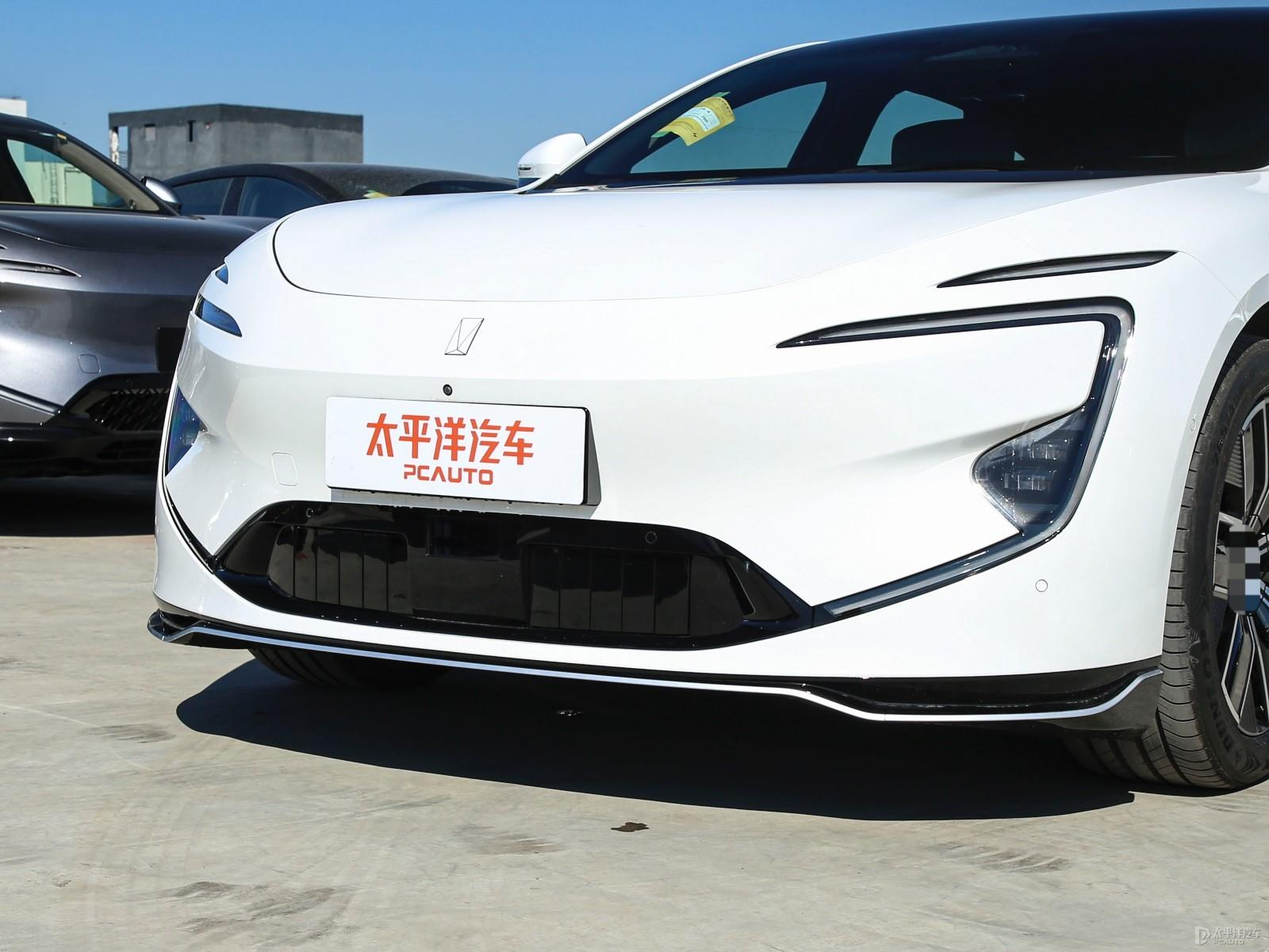AVATR: (444, 317, 484, 355)
